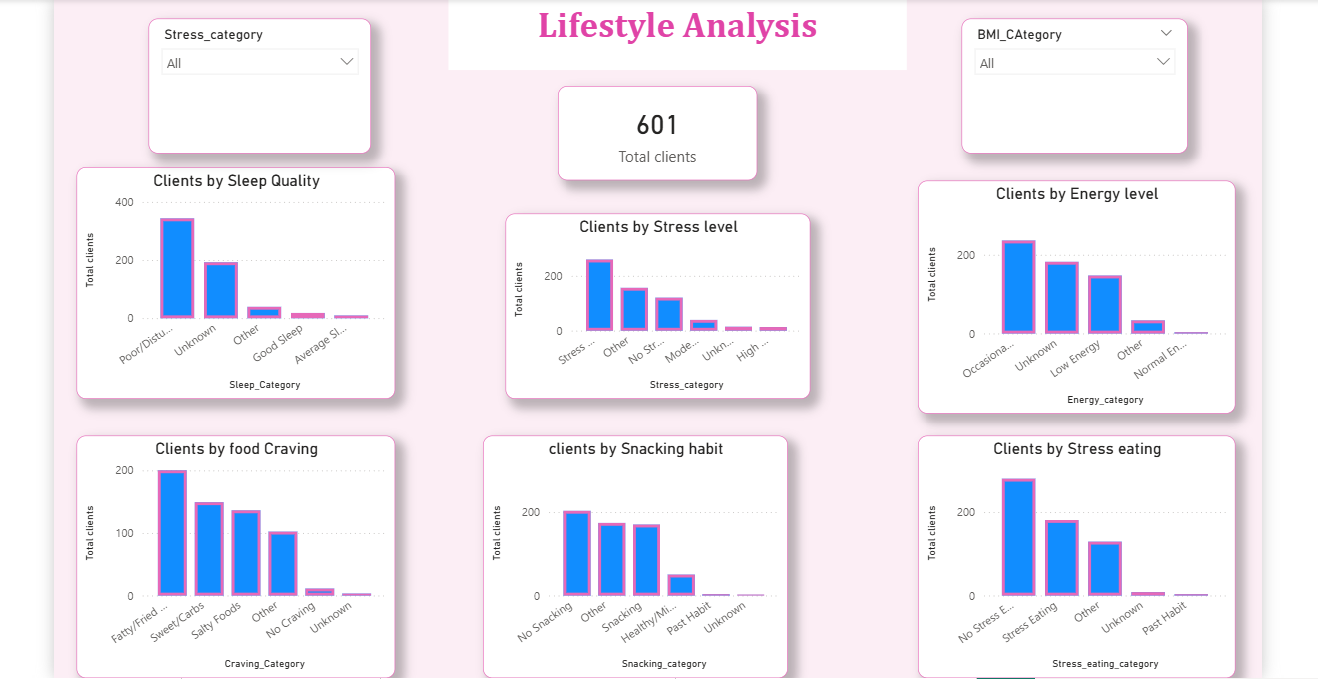

The page's visual inventory and layout, read from the dashboard file:
{"tool":"powerbi","page":{"name":"Lifestyle Analysis","canvas":[1280,720],"ordinal":1},"visuals":[{"type":"textbox","box":[417.6,0,485.7,75.6],"z":0},{"type":"clusteredColumnChart","title":" Clients by Sleep Quality","fields":{"Category":["Sheet 1 - weightloss list xlsx.Sleep_Category"],"Y":["Sheet 1 - weightloss list xlsx.Total clients"]},"box":[24.6,177.6,338.3,245.7],"z":1000},{"type":"clusteredColumnChart","title":" Clients by Stress level","fields":{"Category":["Sheet 1 - weightloss list xlsx.Stress_category"],"Y":["Sheet 1 - weightloss list xlsx.Total clients"]},"box":[478.1,226.8,323.2,196.5],"z":2000},{"type":"clusteredColumnChart","title":"Clients by Energy level","fields":{"Category":["Sheet 1 - weightloss list xlsx.Energy_category"],"Y":["Sheet 1 - weightloss list xlsx.Total clients"]},"box":[916.5,192.8,336.4,247.6],"z":3000},{"type":"clusteredColumnChart","title":" Clients by food Craving","fields":{"Category":["Sheet 1 - weightloss list xlsx.Craving_Category"],"Y":["Sheet 1 - weightloss list xlsx.Total clients"]},"box":[24.6,463,338.3,257],"z":4000},{"type":"clusteredColumnChart","title":" clients by Snacking habit","fields":{"Category":["Sheet 1 - weightloss list xlsx.Snacking_category"],"Y":["Sheet 1 - weightloss list xlsx.Total clients"]},"box":[455.4,463,323.2,257],"z":5000},{"type":"clusteredColumnChart","title":" Clients by Stress eating","fields":{"Category":["Sheet 1 - weightloss list xlsx.Stress_eating_category"],"Y":["Sheet 1 - weightloss list xlsx.Total clients"]},"box":[916.5,463,336.4,257],"z":6000},{"type":"slicer","fields":{"Values":["Sheet 1 - weightloss list xlsx.Stress_category"]},"box":[100.2,20.8,236.2,143.6],"z":7000},{"type":"slicer","fields":{"Values":["Sheet 1 - weightloss list xlsx.BMI_CAtegory"]},"box":[961.9,20.8,240,143.6],"z":8000},{"type":"card","fields":{"Values":["Sheet 1 - weightloss list xlsx.Total clients"]},"box":[534.8,92.6,211.7,100.2],"z":9000}]}

Visuals, with their boxes on the page's 1280x720 design canvas (x1, y1, x2, y2). These are canvas units, not pixel positions in the 1318x679 screenshot, which may show the page scaled, cropped or inside an application window:
textbox: {"left": 418, "top": 0, "right": 903, "bottom": 76}
" Clients by Sleep Quality" clusteredColumnChart: {"left": 25, "top": 178, "right": 363, "bottom": 423}
" Clients by Stress level" clusteredColumnChart: {"left": 478, "top": 227, "right": 801, "bottom": 423}
"Clients by Energy level" clusteredColumnChart: {"left": 916, "top": 193, "right": 1253, "bottom": 440}
" Clients by food Craving" clusteredColumnChart: {"left": 25, "top": 463, "right": 363, "bottom": 720}
" clients by Snacking habit" clusteredColumnChart: {"left": 455, "top": 463, "right": 779, "bottom": 720}
" Clients by Stress eating" clusteredColumnChart: {"left": 916, "top": 463, "right": 1253, "bottom": 720}
slicer - Sheet 1 - weightloss list xlsx.Stress_category: {"left": 100, "top": 21, "right": 336, "bottom": 164}
slicer - Sheet 1 - weightloss list xlsx.BMI_CAtegory: {"left": 962, "top": 21, "right": 1202, "bottom": 164}
card - Sheet 1 - weightloss list xlsx.Total clients: {"left": 535, "top": 93, "right": 746, "bottom": 193}
